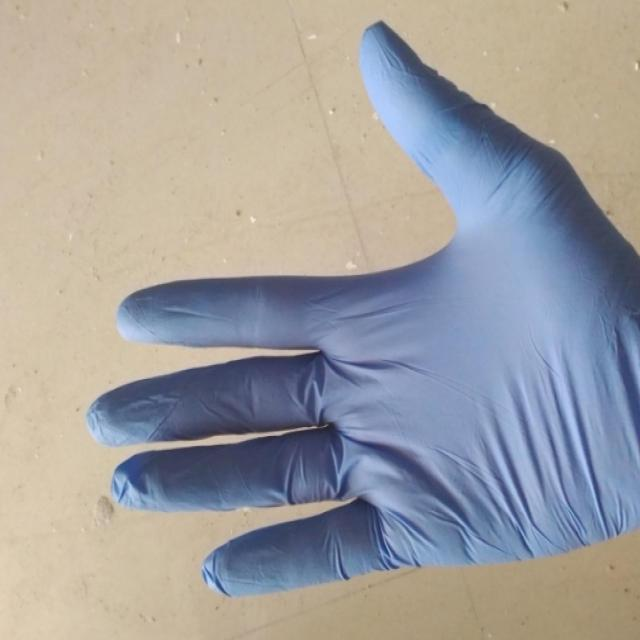glove: (86, 19, 640, 598)
